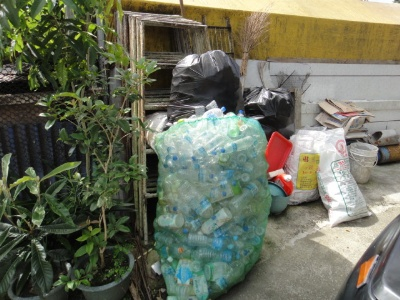bucket: (343, 141, 381, 184)
plastic_bag: (148, 107, 275, 299), (168, 46, 246, 123), (311, 143, 377, 230), (288, 131, 327, 208), (243, 80, 295, 131)
